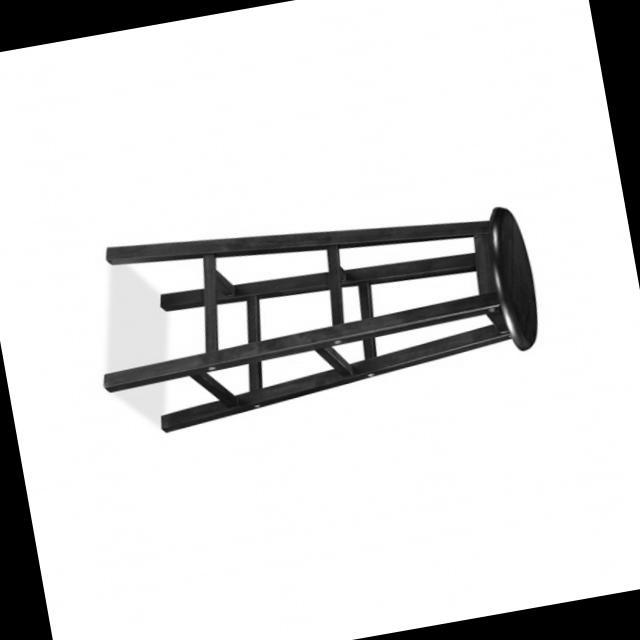chair: (74, 175, 553, 446)
